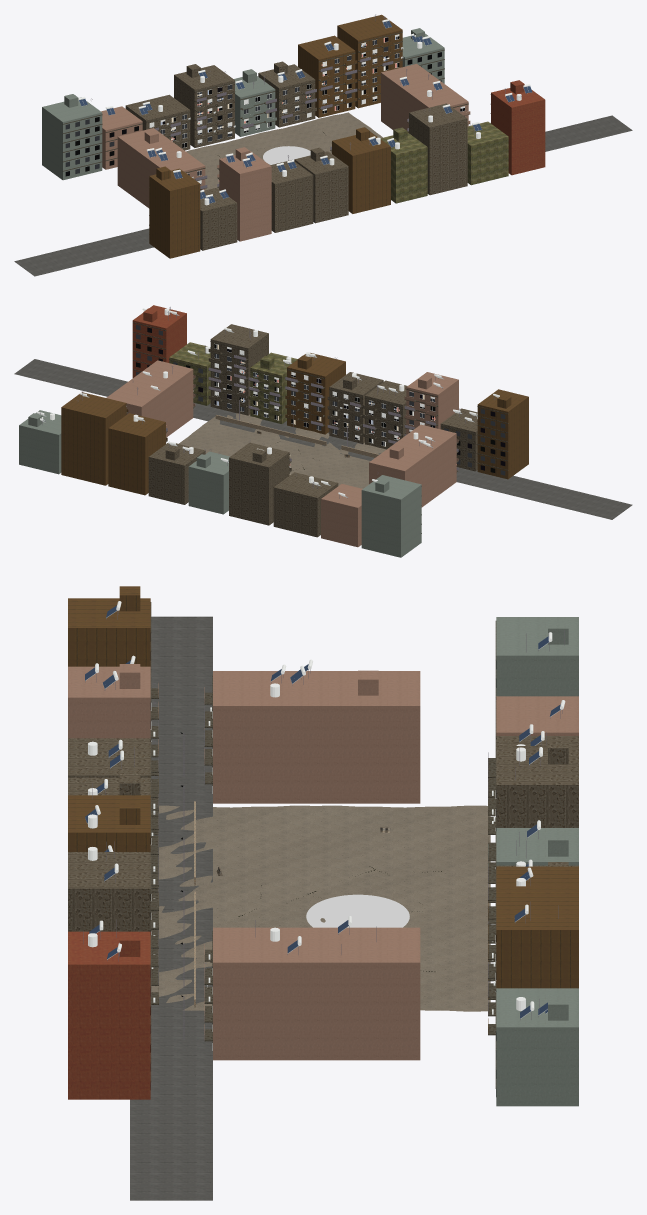
File: arsa.glb
3 views of the same model, one above another, from view 1: azimuth 30°, elevation 25°; view 2: azimuth 150°, elevation 25°; view 3: azimuth 270°, elevation 25° (orthographic). The views are drawn at different scales.
Visible parts, largest first — view 1: m_worn_plaster_wall, m_yellow_plaster_02, m_painted_plaster_wall, m_plaster_green, m_glassdark.001, m_white_plaster_rough_02, m_asphalt_02, m_dry_ground_01, m_red_plaster_weathered, m_slab, burn; view 2: m_worn_plaster_wall, m_yellow_plaster_02, m_painted_plaster_wall, m_plaster_green, m_asphalt_02, m_glassdark.001, m_dry_ground_01, m_white_plaster_rough_02, m_slab, m_red_plaster_weathered, m_brick_wall_02, m_winlight.010; view 3: m_painted_plaster_wall, m_dry_ground_01, m_asphalt_02, m_yellow_plaster_02, m_plaster_green, m_worn_plaster_wall, m_red_plaster_weathered, m_slab, m_glassdark.001, burn.
Boxes of the visible parts, box(x1,y1,x2,y2) form: m_worn_plaster_wall: box(125, 61, 467, 250); m_yellow_plaster_02: box(149, 14, 402, 258); m_painted_plaster_wall: box(101, 64, 470, 241); m_plaster_green: box(42, 28, 444, 180); m_glassdark.001: box(65, 14, 532, 205); m_white_plaster_rough_02: box(380, 121, 508, 203); m_asphalt_02: box(14, 115, 632, 276); m_dry_ground_01: box(186, 112, 382, 190); m_red_plaster_weathered: box(491, 80, 545, 175); m_slab: box(62, 31, 490, 234); burn: box(263, 146, 310, 164); m_worn_plaster_wall: box(148, 324, 477, 537); m_yellow_plaster_02: box(61, 353, 528, 495); m_painted_plaster_wall: box(106, 360, 458, 547); m_plaster_green: box(19, 410, 421, 557); m_asphalt_02: box(14, 359, 632, 519); m_glassdark.001: box(37, 307, 505, 498); m_dry_ground_01: box(179, 413, 386, 488); m_white_plaster_rough_02: box(169, 342, 297, 423); m_slab: box(126, 322, 508, 533); m_red_plaster_weathered: box(132, 305, 186, 377); m_brick_wall_02: box(215, 415, 378, 457); m_winlight.010: box(158, 349, 505, 470); m_painted_plaster_wall: box(68, 664, 578, 1060); m_dry_ground_01: box(151, 805, 490, 1011); m_asphalt_02: box(130, 616, 212, 1200); m_yellow_plaster_02: box(68, 586, 578, 1033); m_plaster_green: box(488, 617, 578, 1106); m_worn_plaster_wall: box(68, 736, 578, 1003); m_red_plaster_weathered: box(68, 931, 150, 1099); m_slab: box(150, 602, 496, 1088); m_glassdark.001: box(83, 601, 565, 1096); burn: box(306, 894, 409, 927).
Bounding box in the file's own units: 200 × 26.24 × 74.01.
Materials: 25 (25 with a texture image).
